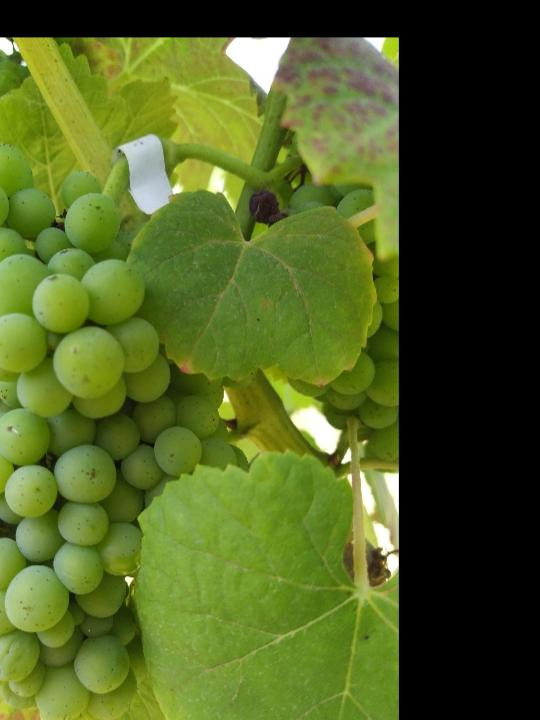grape: (0, 140, 249, 720)
